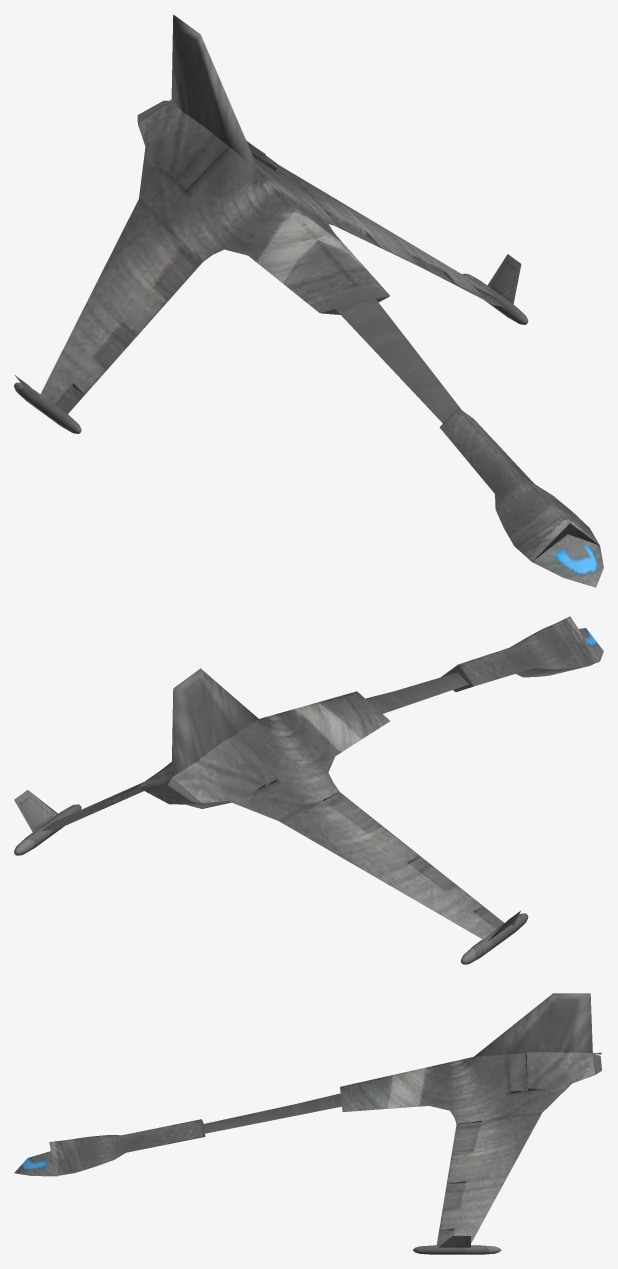
The model's file is kestrel.gltf.
3 renders of one model, top to bottom at view 1: azimuth 30°, elevation 25°; view 2: azimuth 150°, elevation 25°; view 3: azimuth 270°, elevation 25°, orthographic. The views are drawn at different scales.
Visible parts, largest first — view 1: base; view 2: base; view 3: base.
Part boxes in pixels (x1,y1,x2,y2): base: [14, 14, 603, 587]; base: [14, 616, 603, 964]; base: [14, 993, 601, 1254].
Bounding box in the file's own units: 4.93 × 2.62 × 7.49.
1 material, 1 textured.
